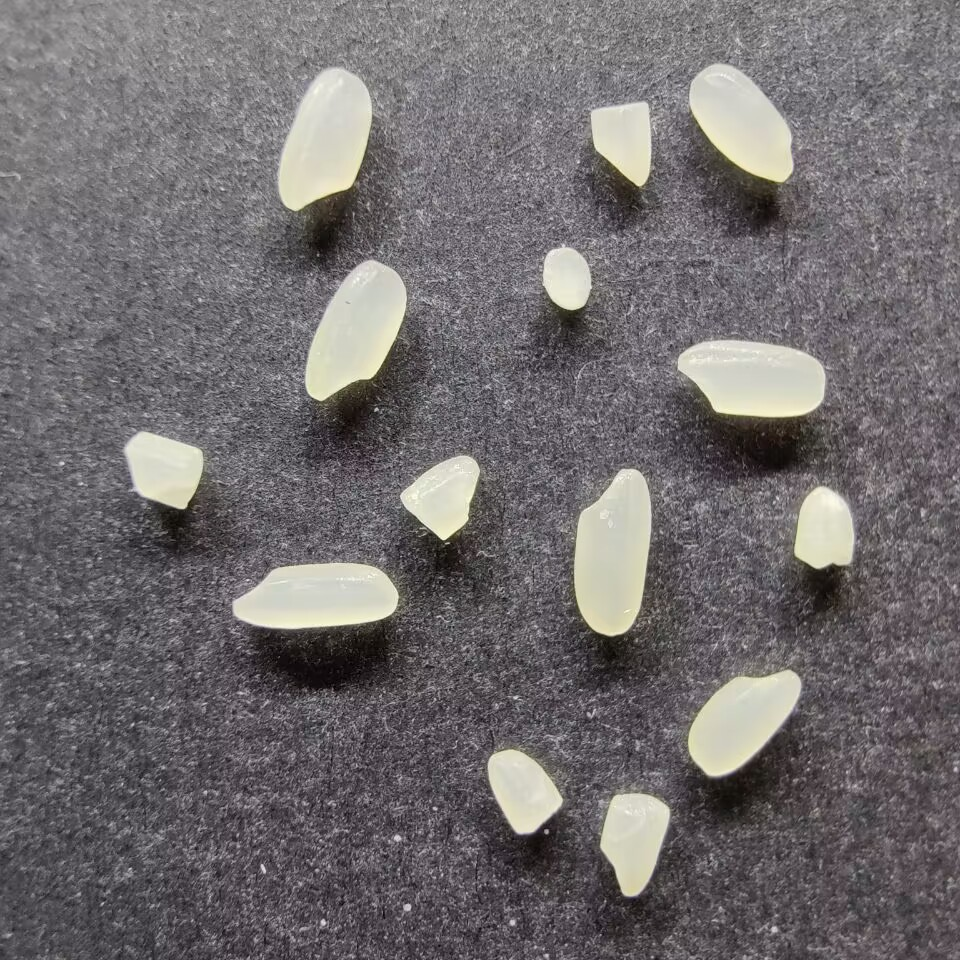broken: (599, 792, 670, 897), (398, 453, 480, 542), (486, 749, 563, 836), (123, 431, 203, 509), (589, 102, 652, 188), (792, 486, 855, 570), (540, 247, 592, 311)
rice: (303, 259, 407, 401), (277, 66, 371, 211), (572, 467, 652, 636), (687, 63, 794, 184), (687, 669, 802, 777), (676, 339, 825, 418), (231, 561, 398, 630)
